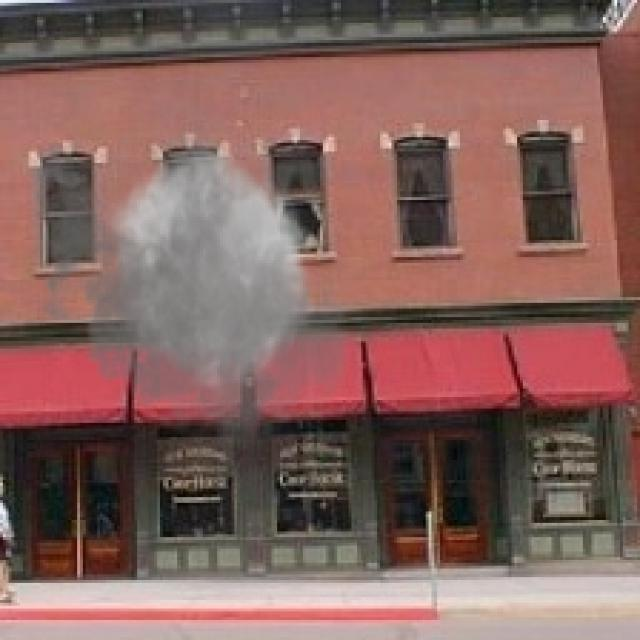Smoke: (20, 80, 363, 460)
